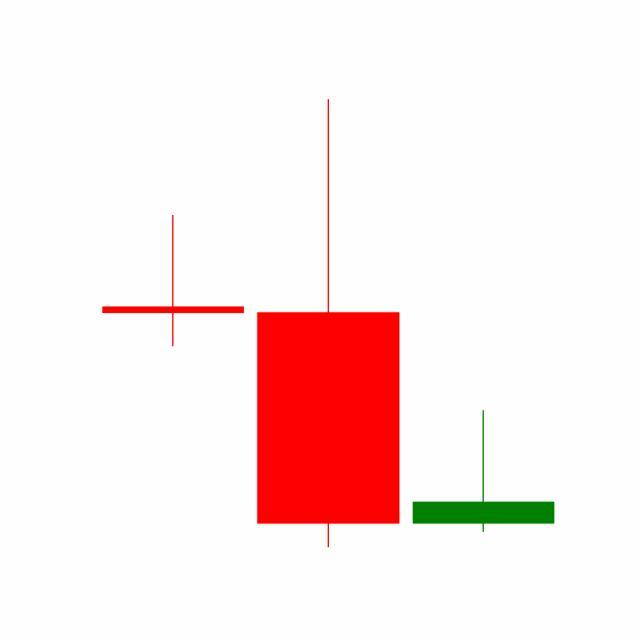Gravestone Doji: (406, 409, 562, 535)
